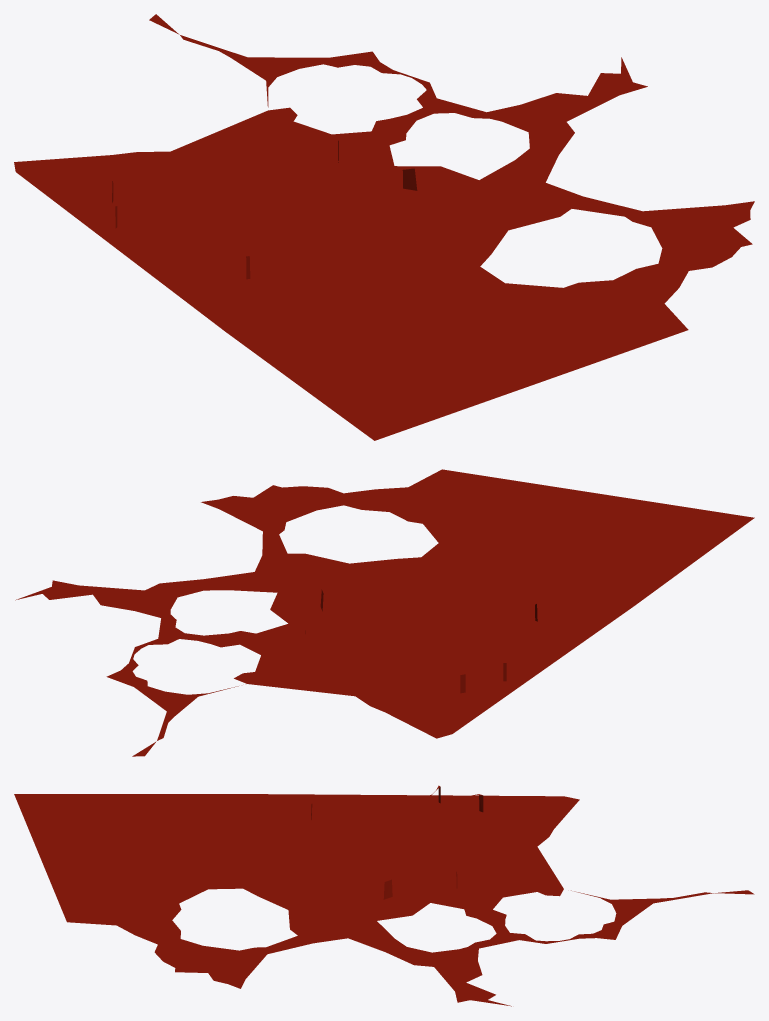
The model's file is Lava_01.FBX.
3 views of the same model, one above another, from view 1: azimuth 30°, elevation 25°; view 2: azimuth 150°, elevation 25°; view 3: azimuth 270°, elevation 25° (orthographic). The views are drawn at different scales.
Visible parts, largest first — view 1: Lava_01; view 2: Lava_01; view 3: Lava_01.
Boxes of the visible parts, left/top/right/bottom form: Lava_01: left=14, top=14, right=754, bottom=440; Lava_01: left=15, top=469, right=754, bottom=756; Lava_01: left=14, top=785, right=754, bottom=1006.
Size of the model in its own units: 35.45 by 1.66 by 52.21.
